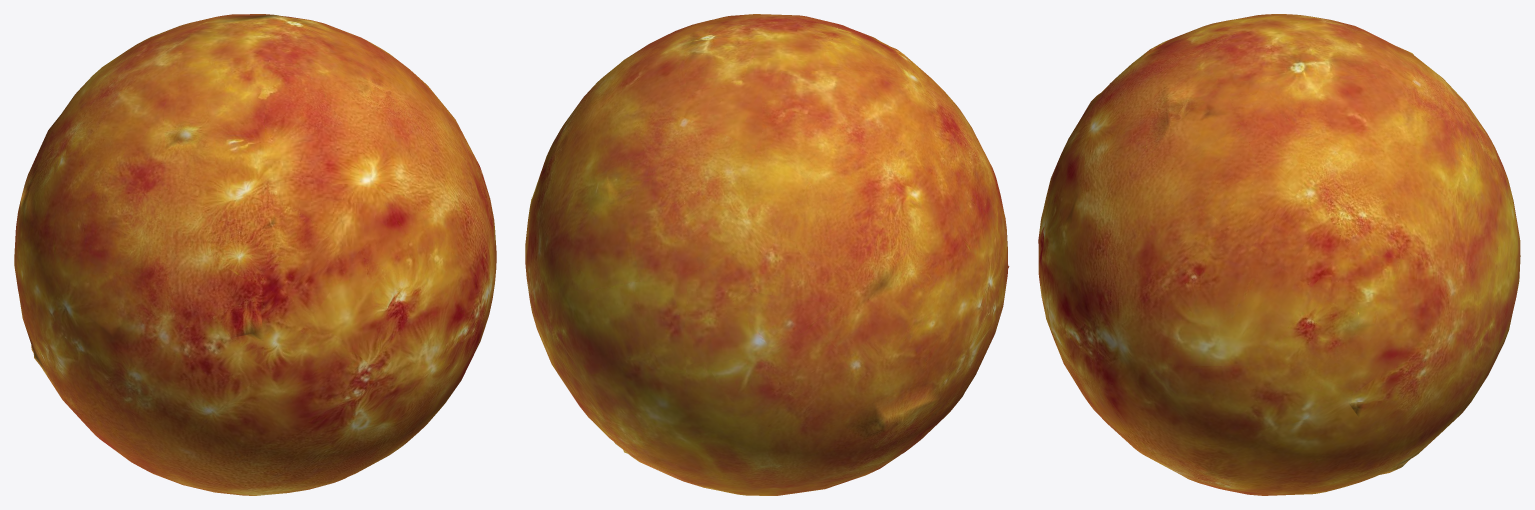
The model's file is sol.glb.
3 views of the same model, side by side, from view 1: azimuth 30°, elevation 25°; view 2: azimuth 150°, elevation 25°; view 3: azimuth 270°, elevation 25° (orthographic).
Size of the model in its own units: 1.99 by 1.99 by 1.99.
Materials: 1 (1 with a texture image).
